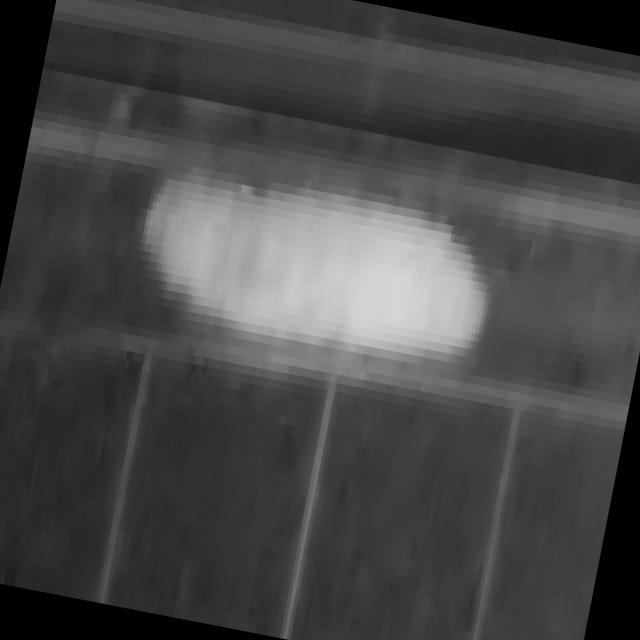larva: (121, 127, 514, 393)
